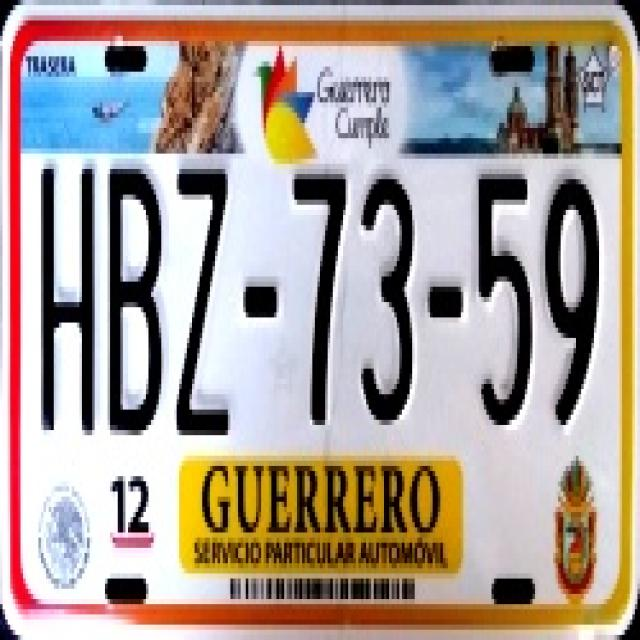placa: (22, 149, 621, 451)
